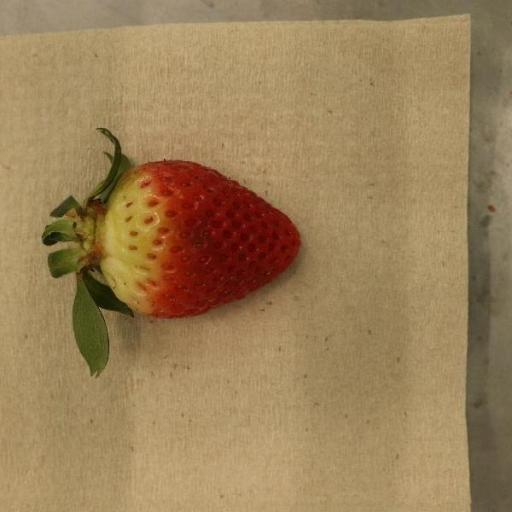Strawberry: (41, 128, 302, 319)
